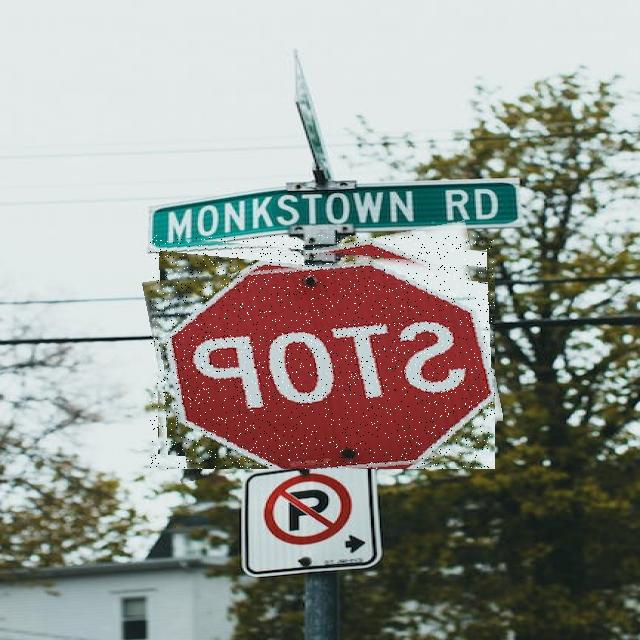stop: (150, 235, 495, 469)
